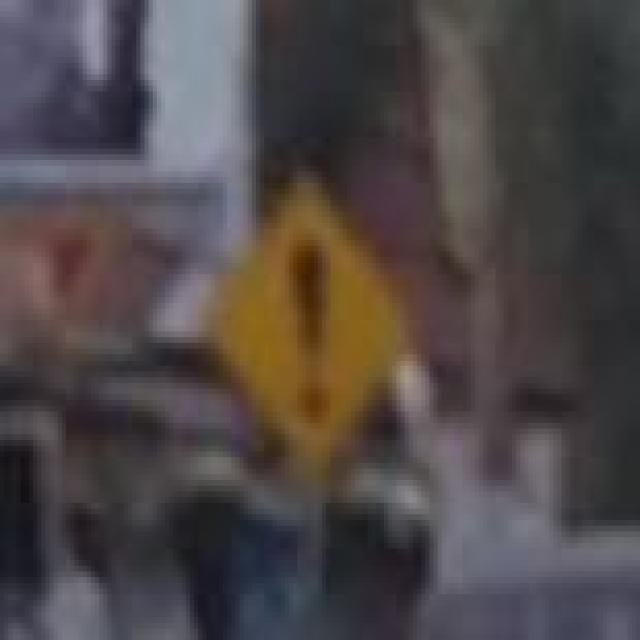traffic sign: (202, 166, 416, 469)
